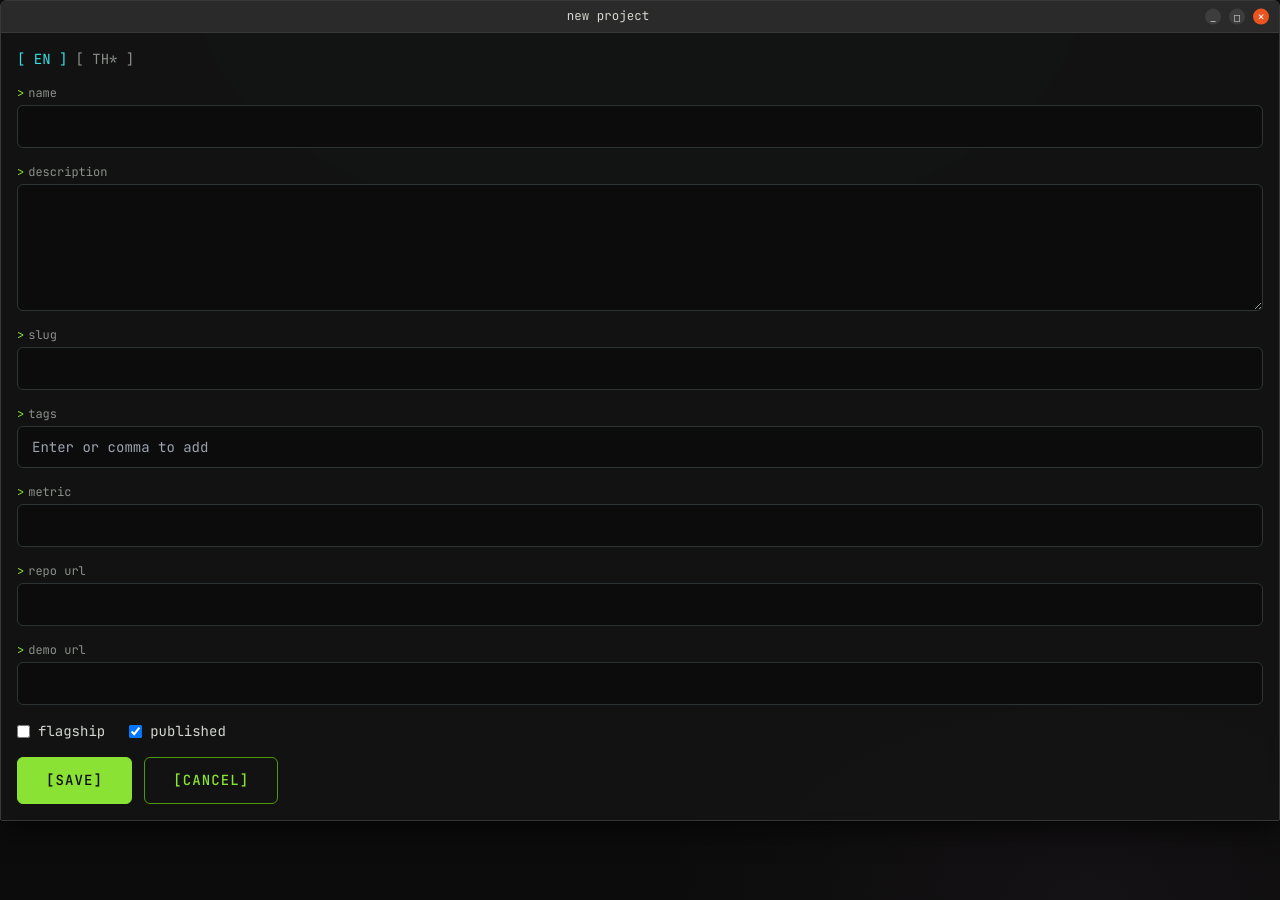
Scenario: maps slug_taken to the slug field
Type "Dup" into the field labelled "name" at (640, 126), box [17,105,1263,148]
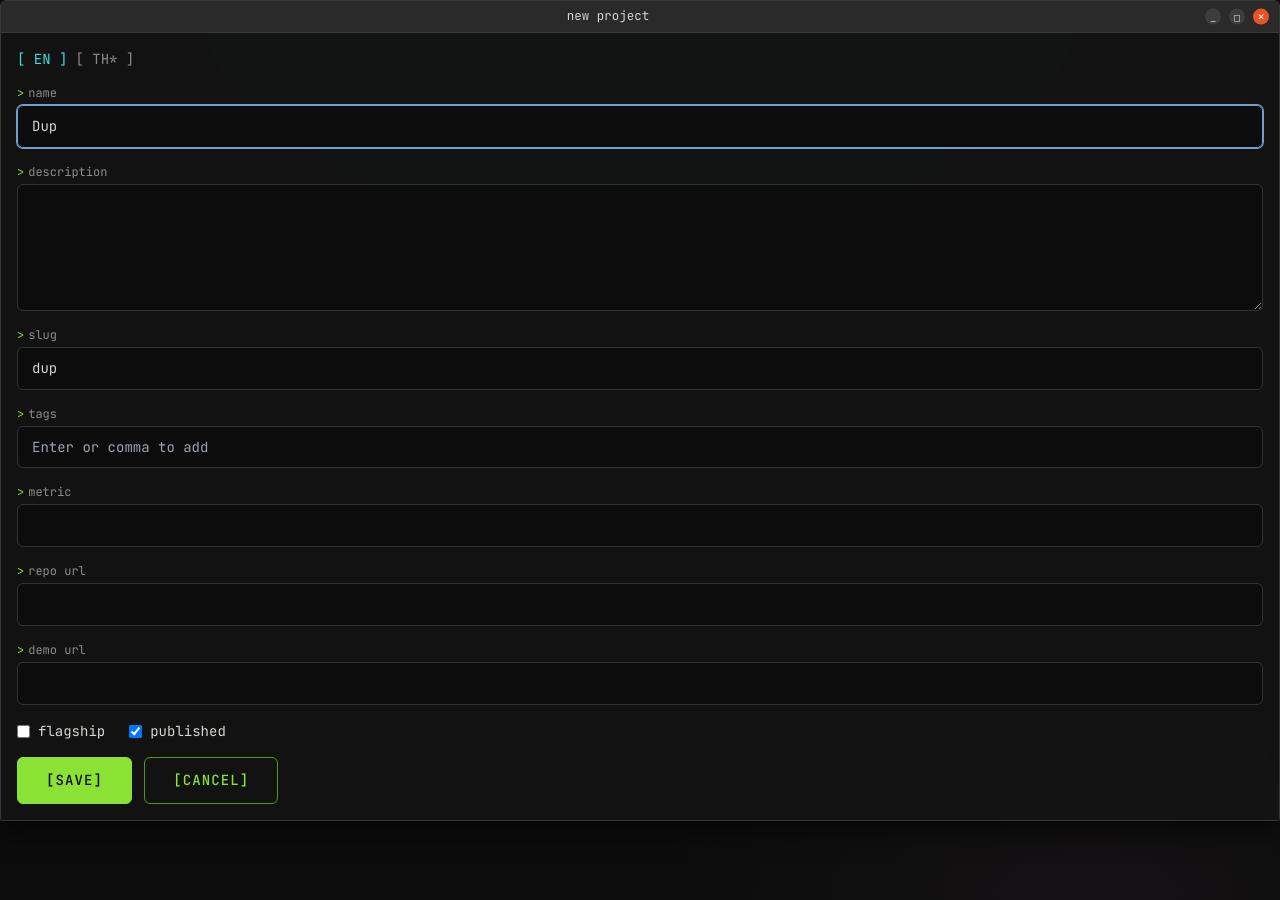
Click the button "[save]" at (75, 780), box [17,757,132,804]
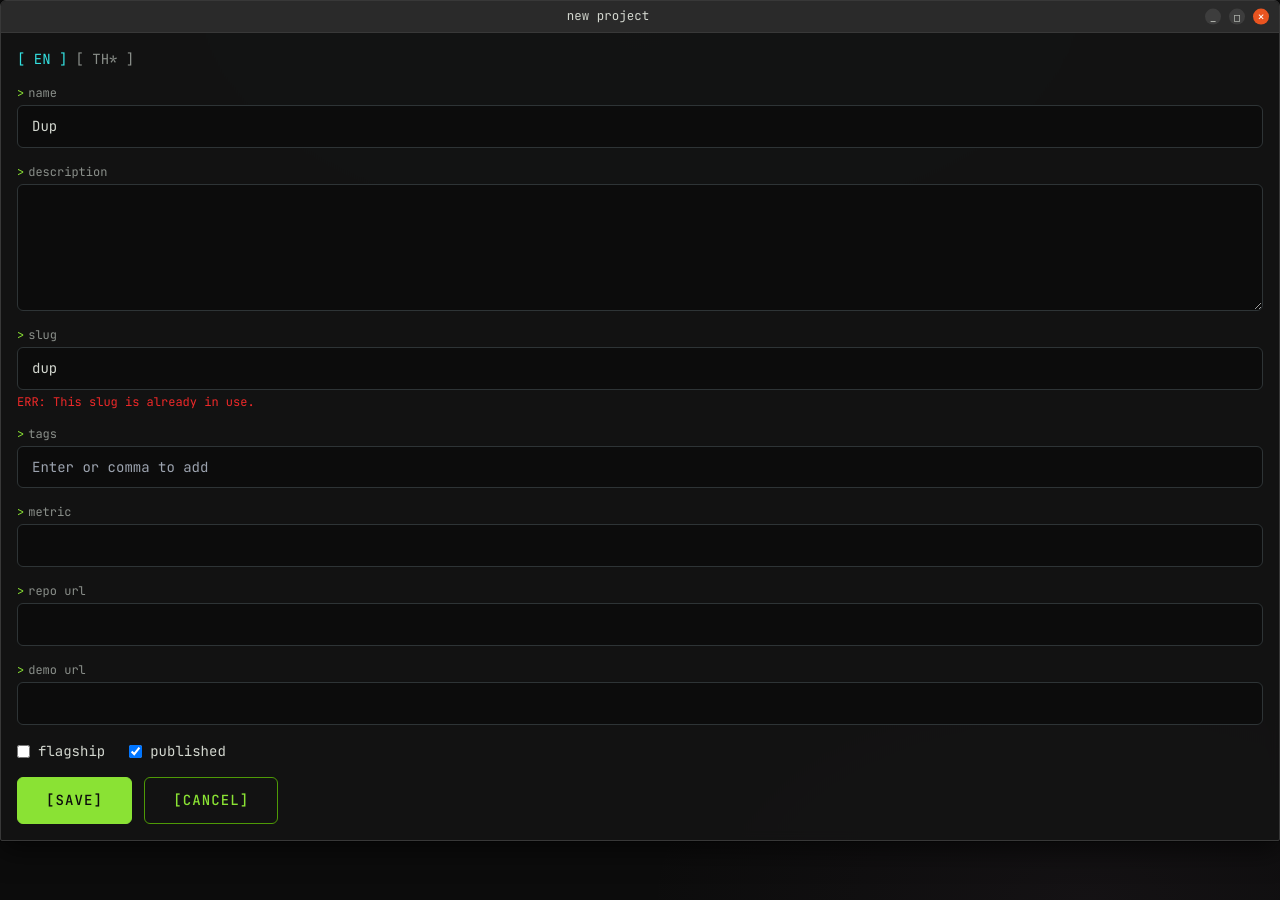
Expected: the text "ERR: This slug is already in use." is shown, [17,394,255,410]
